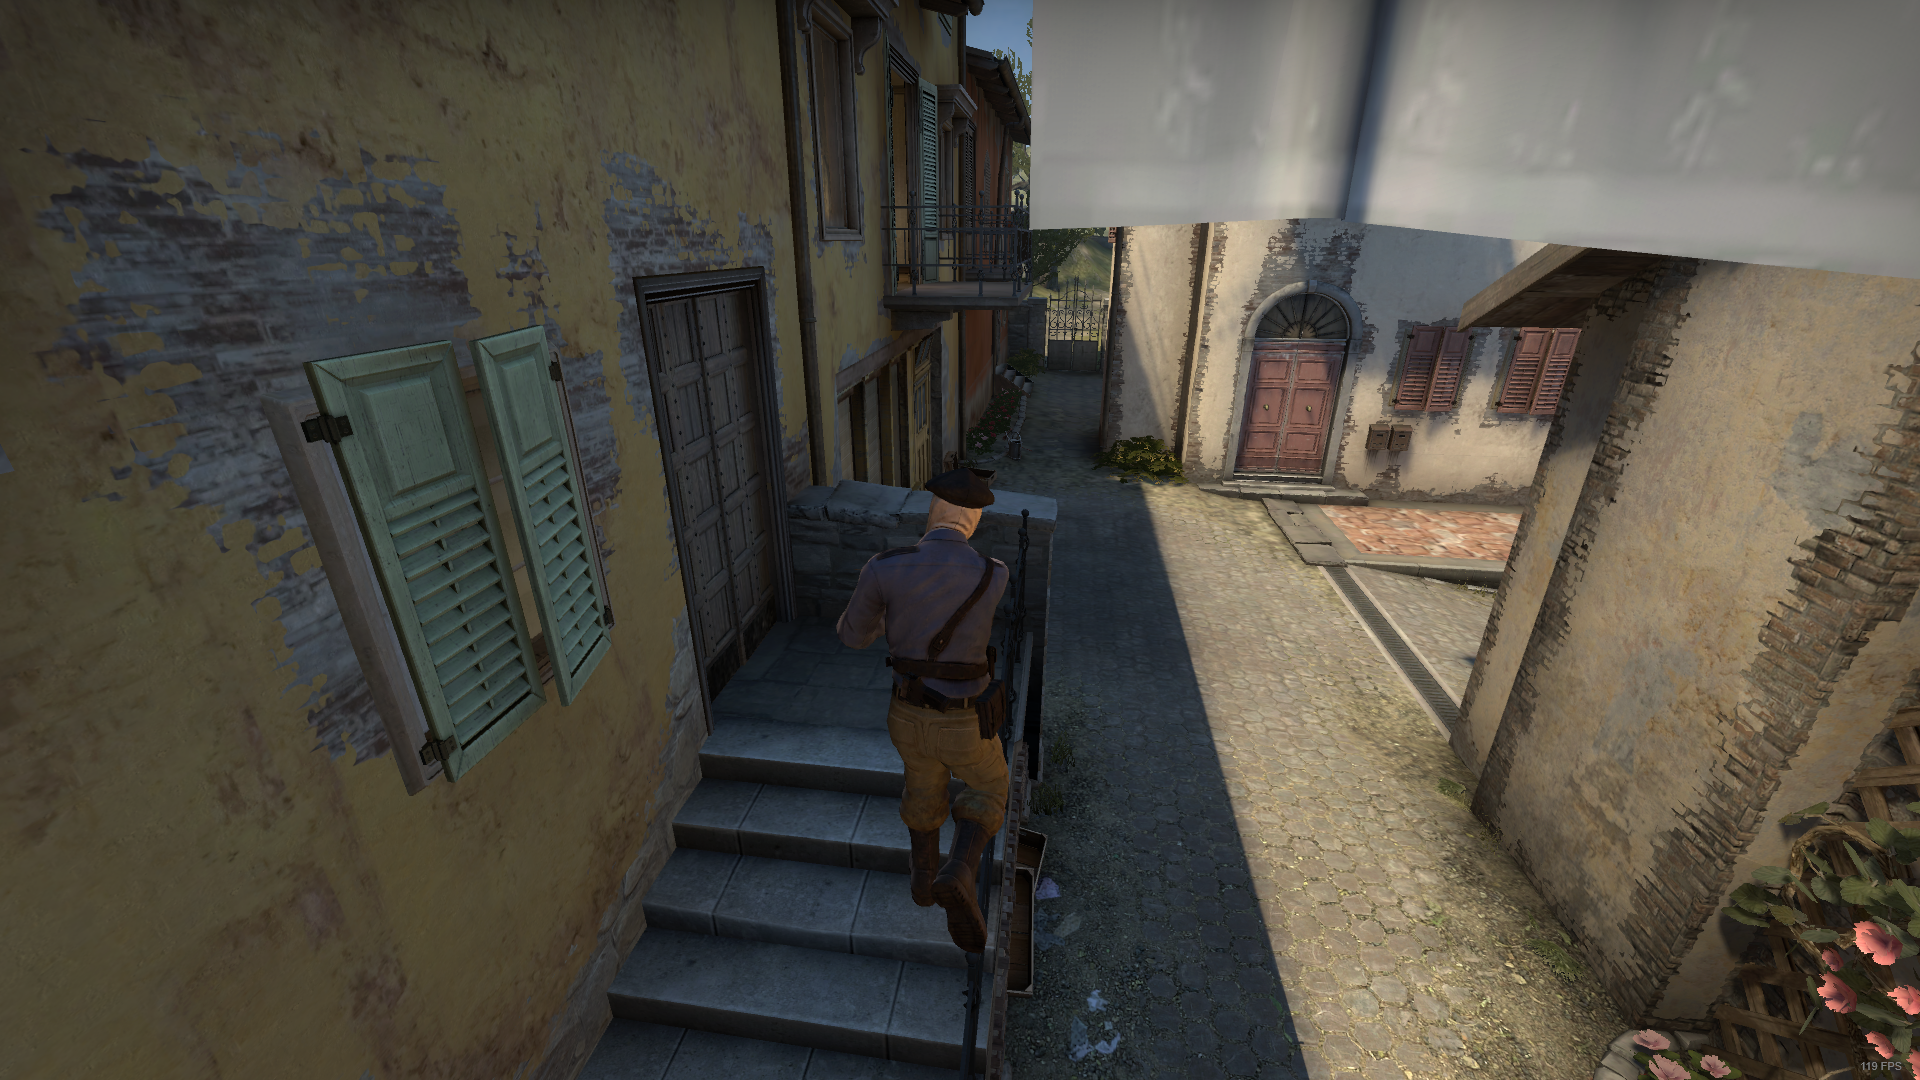t: (849, 454, 1055, 967)
